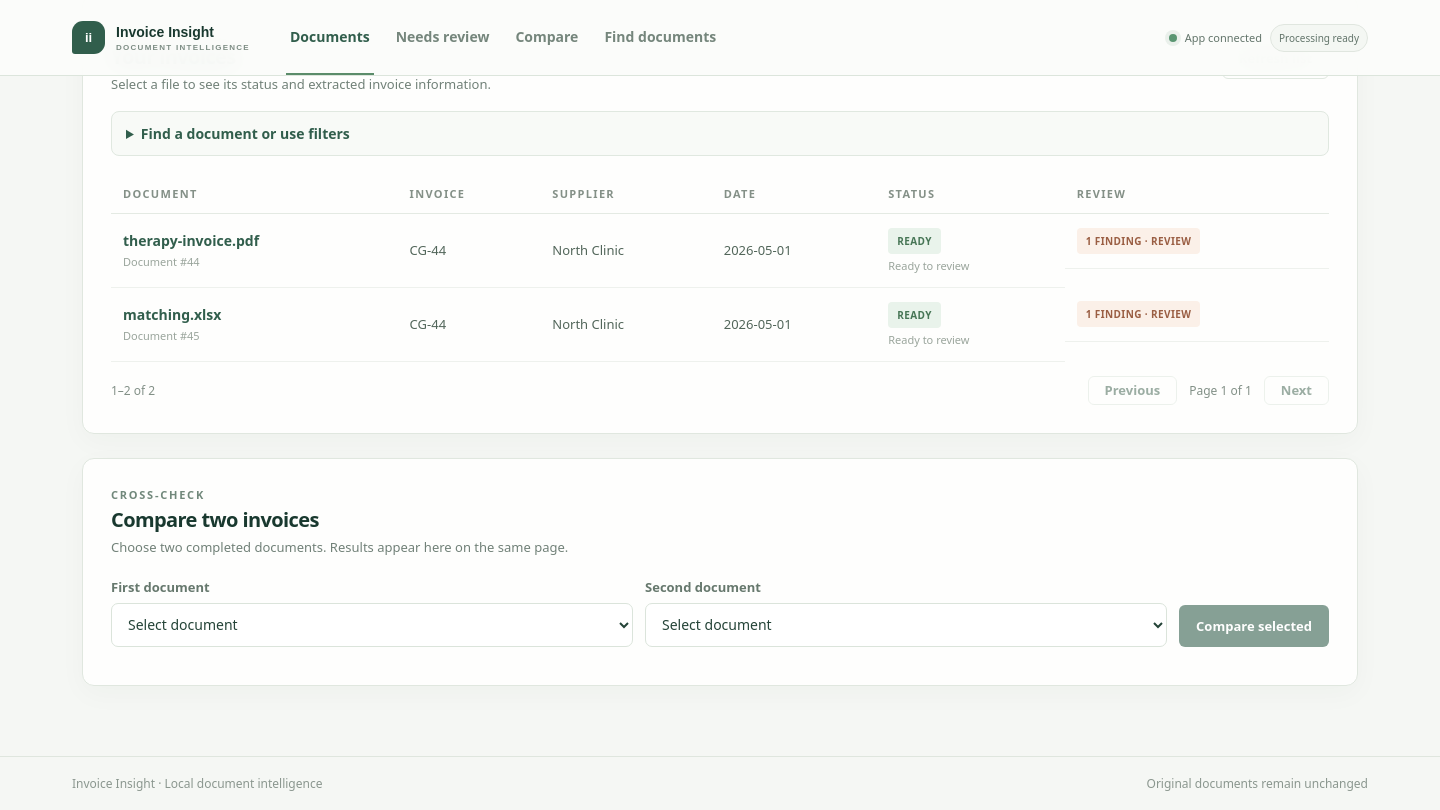
it: document workspace › compares selected completed documents directly on the documents page
(page scrolled)
Step 1. Select "#44 · therapy-invoice.pdf" in the dropdown labelled "First document" → (372, 625), box [111, 603, 633, 647]
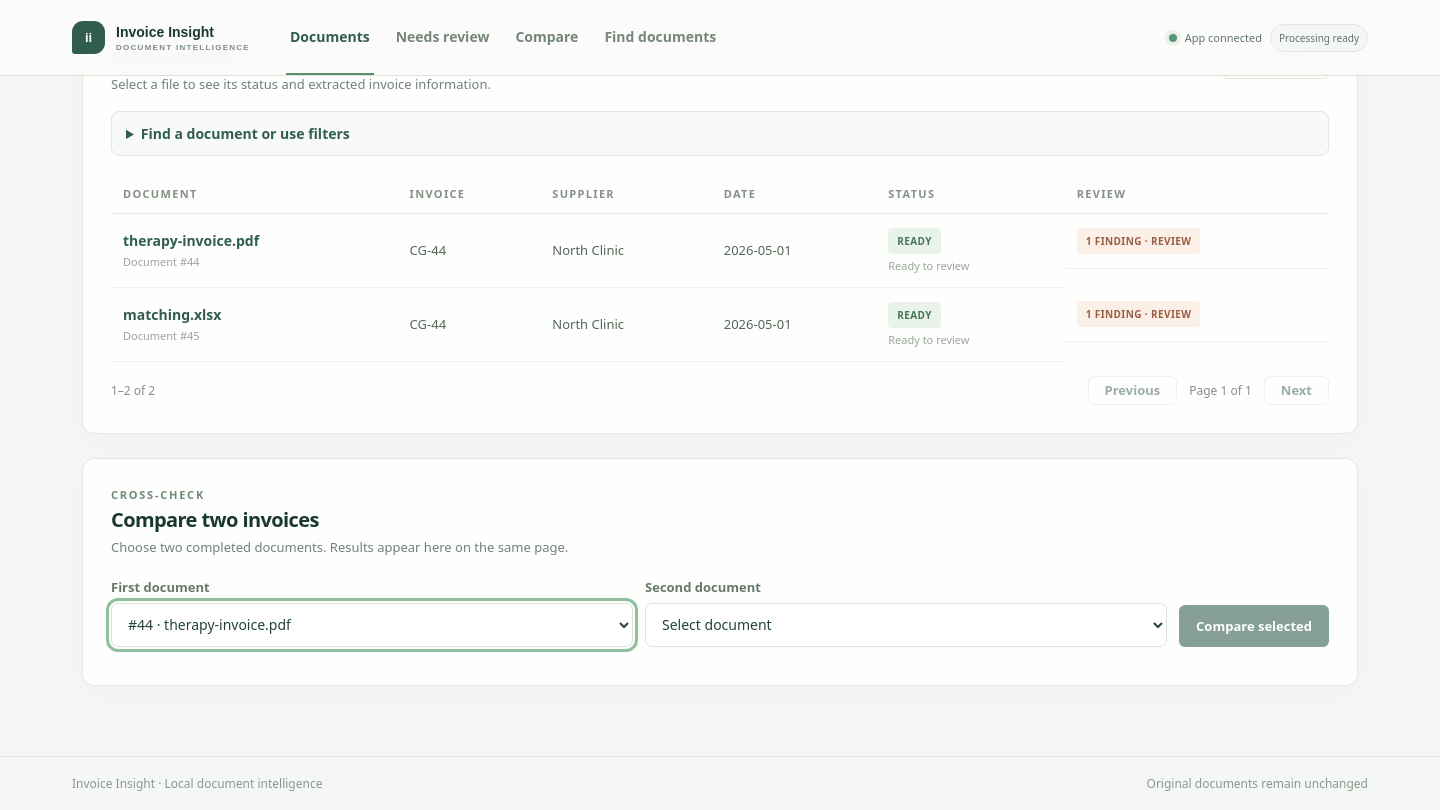
Step 2. Select "#45 · matching.xlsx" in the dropdown labelled "Second document" → (906, 625), box [645, 603, 1167, 647]
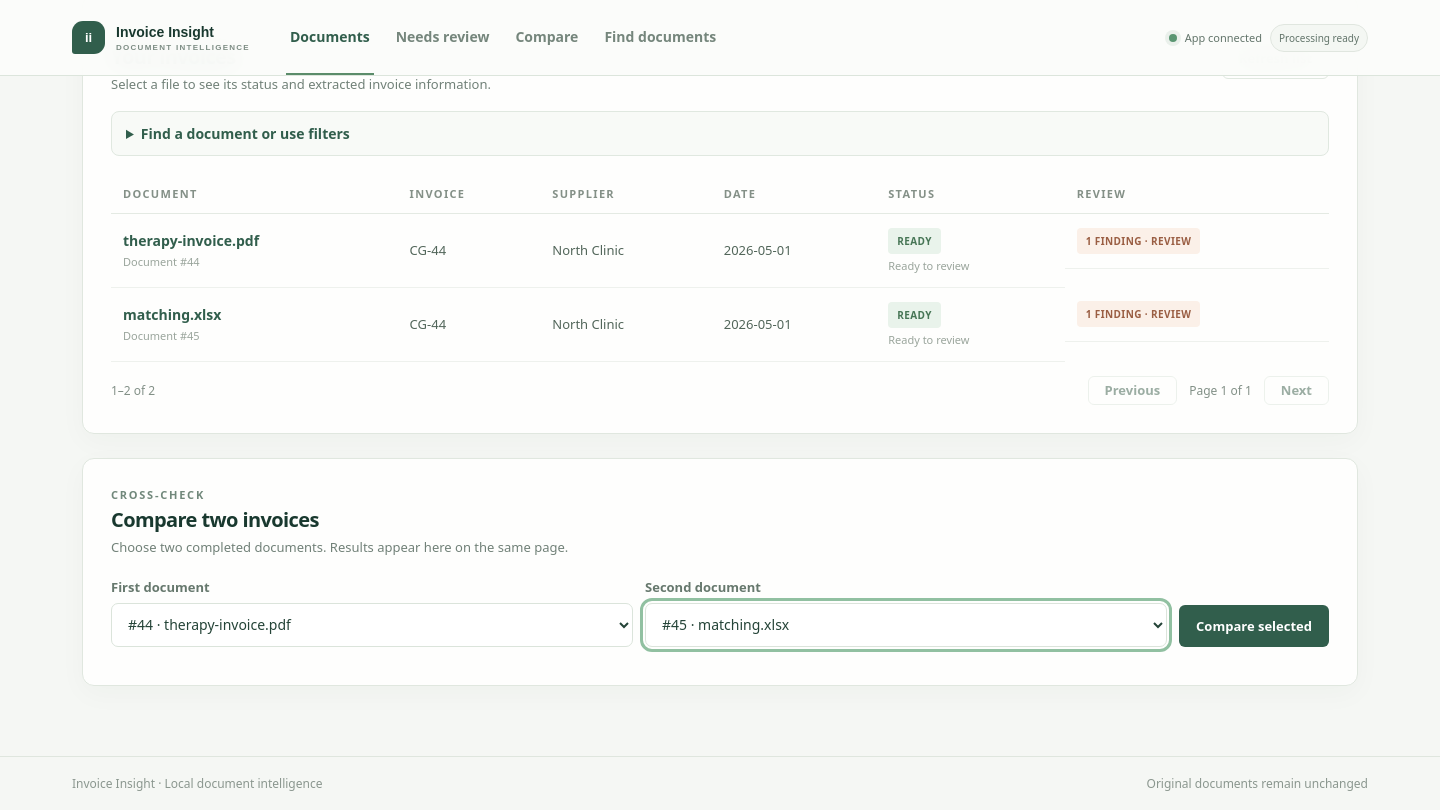
Step 3. Click the button "Compare selected" → (1254, 626), box [1179, 605, 1329, 647]
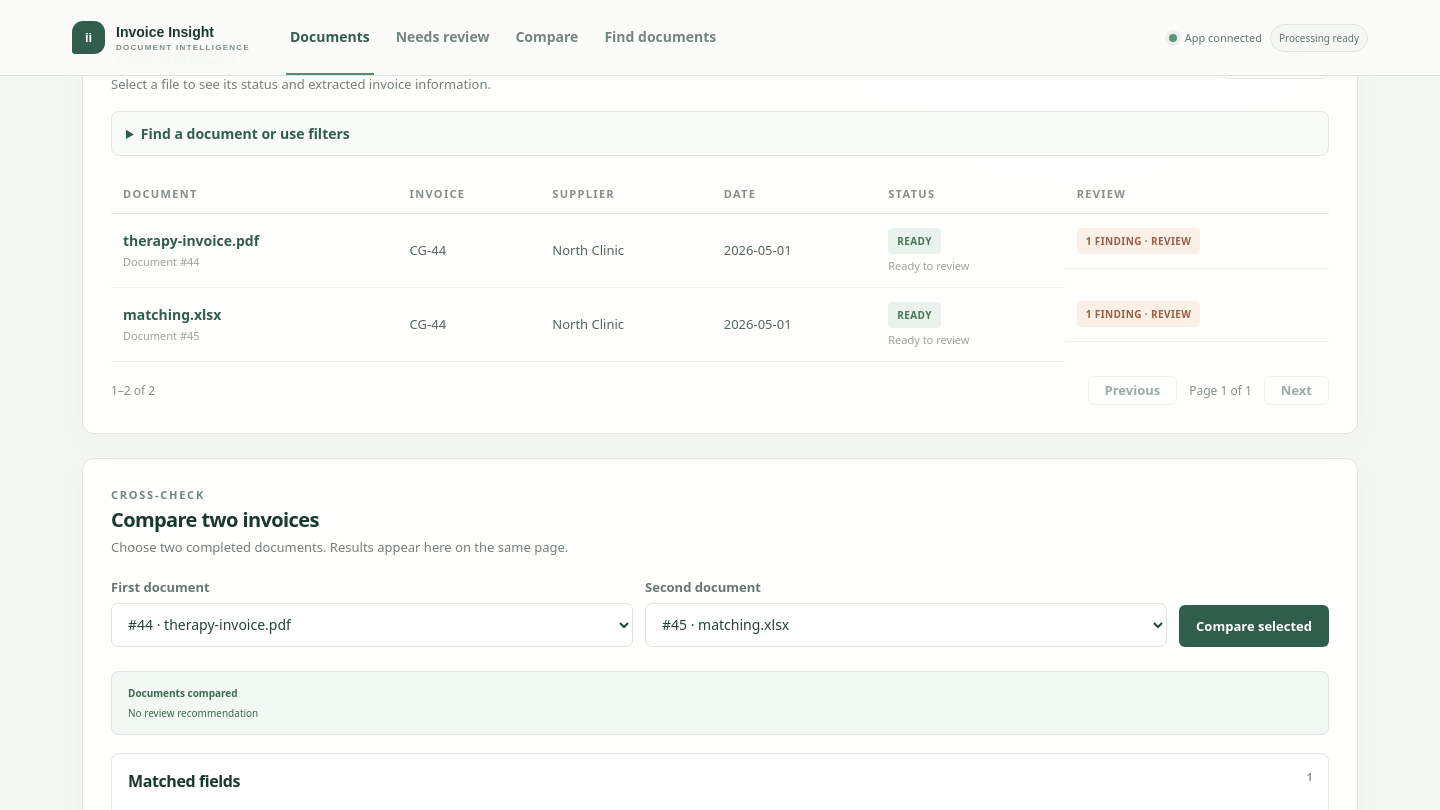
Result: the heading "Matched fields 1" is shown at [128, 770, 1312, 792]
